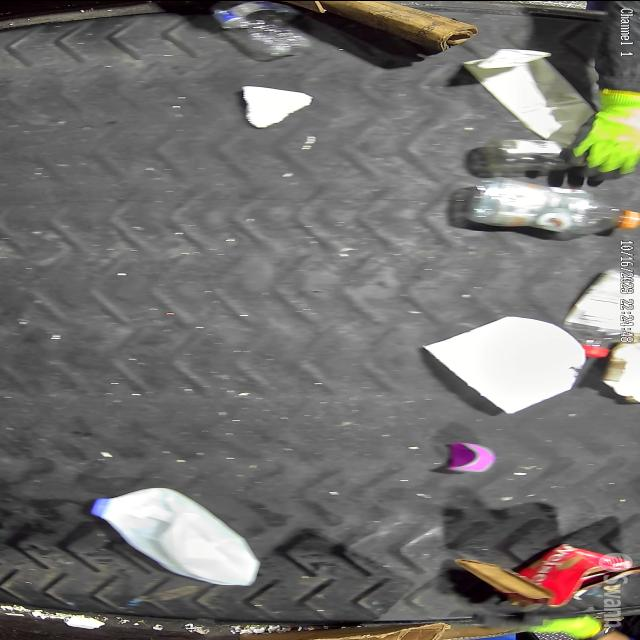milk_jug: (90, 487, 262, 587)
plastic_bottle: (462, 182, 640, 235), (213, 0, 311, 59)
